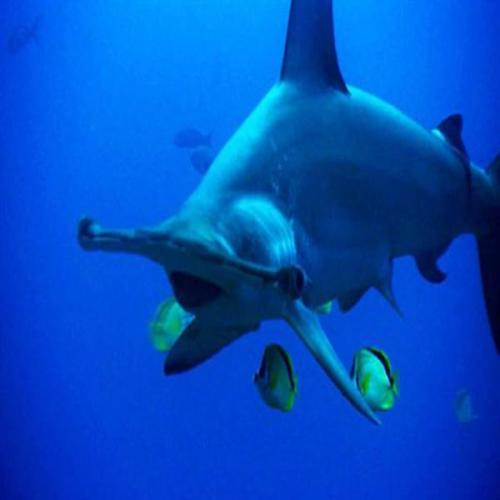shark-endangered: (76, 0, 500, 430)
